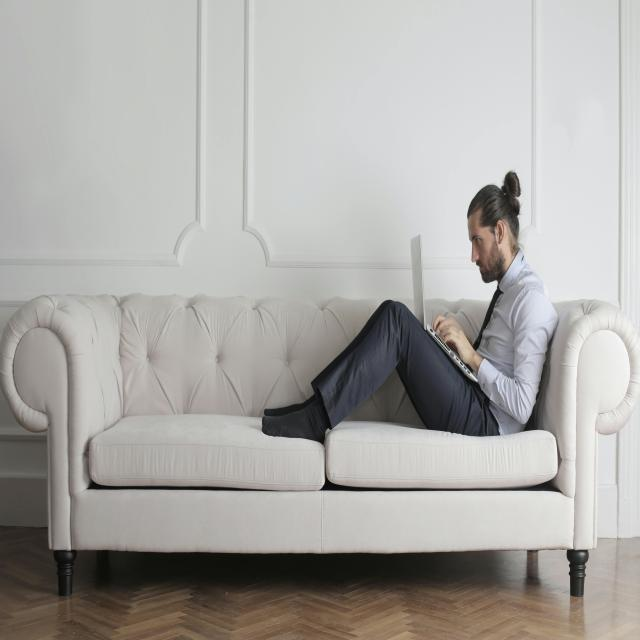sit: (263, 174, 565, 450)
